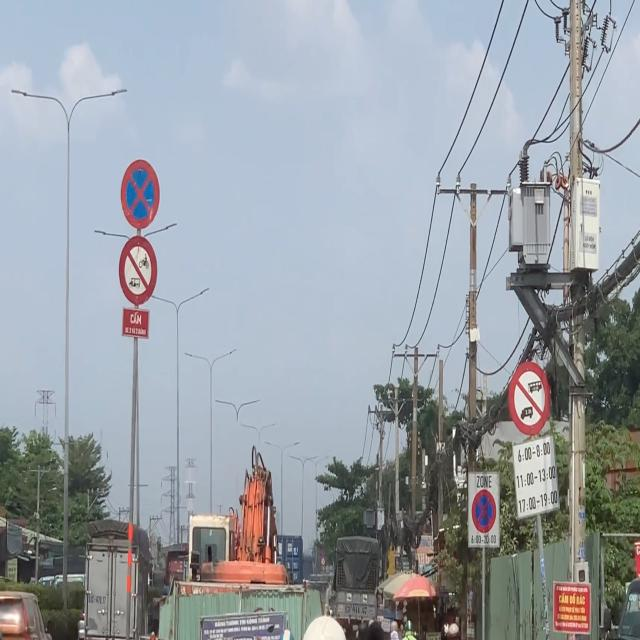Cam con lai: (508, 362, 551, 438), (119, 236, 158, 304)
Cam dung va do: (117, 154, 163, 234), (471, 487, 498, 535)
